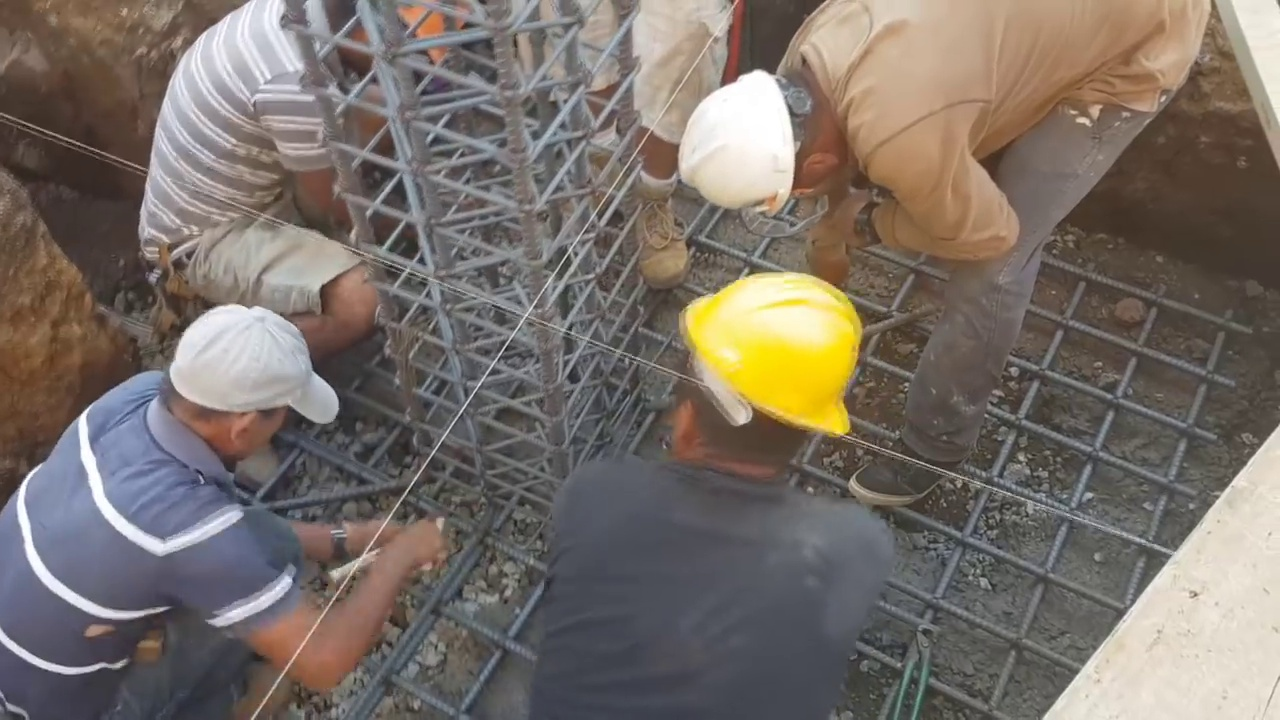helmet: (679, 273, 860, 442), (675, 69, 798, 219), (391, 2, 472, 64)
helmet-off: (158, 303, 340, 476)
helmet-on: (658, 273, 864, 492), (674, 63, 852, 219), (316, 0, 477, 87)
person: (672, 0, 1212, 508), (0, 303, 447, 716), (526, 274, 891, 718), (138, 3, 476, 357), (540, 0, 711, 290)
